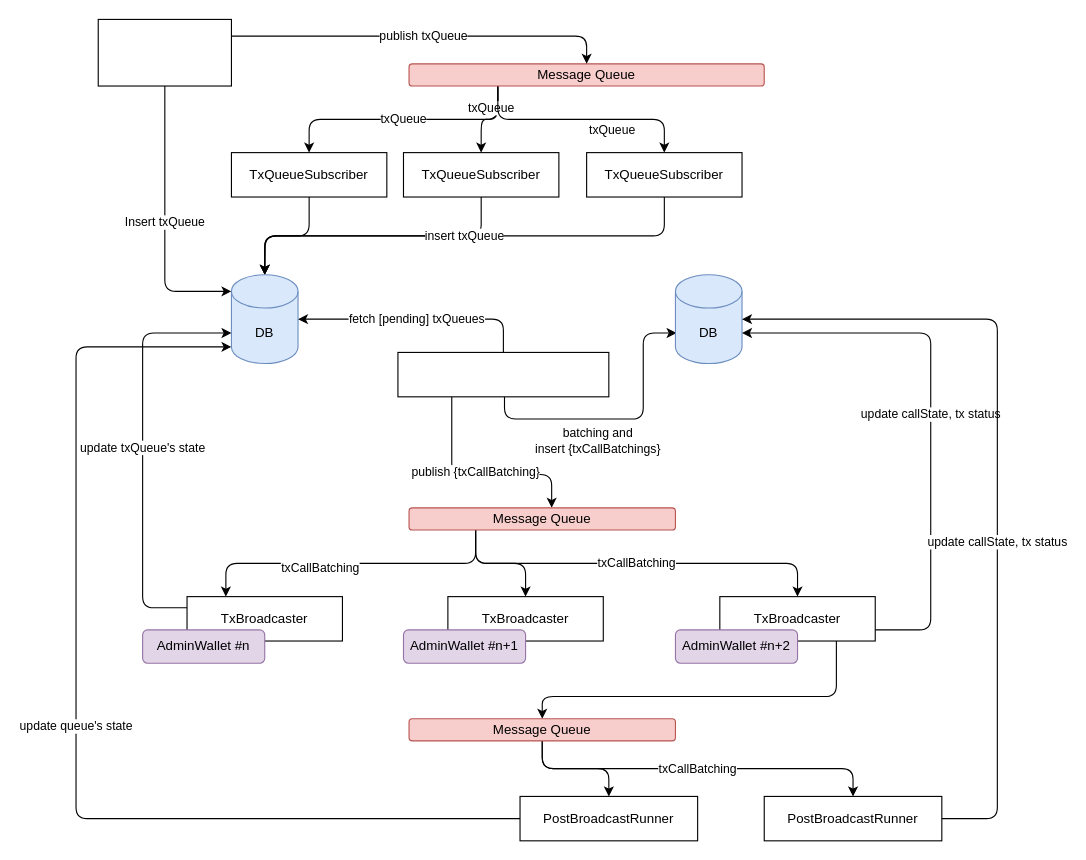
The diagram is 1086 pixels wide and 860 high, and some of its shapes have lost their labels. The centre of each missing label's shape, as x and y in pixels:
"TxBatchingQueueProcessor <singleton>" goes at point 503,374.
"XYZ Service" goes at point 164,52.
